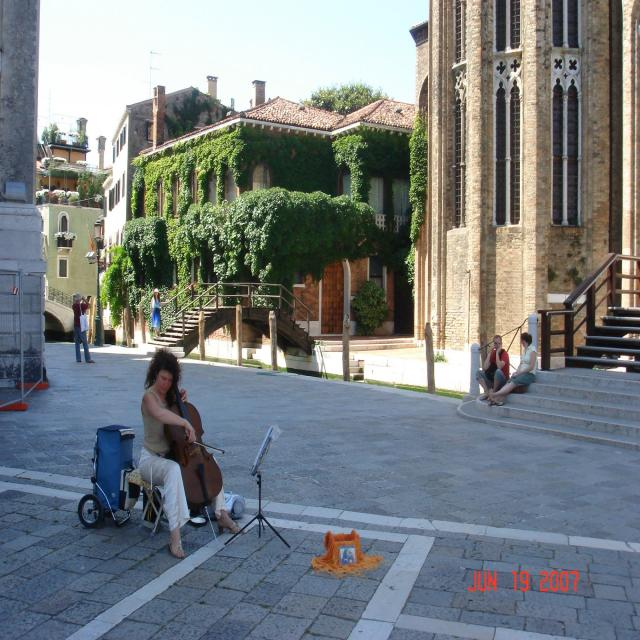cello: (161, 376, 228, 548)
